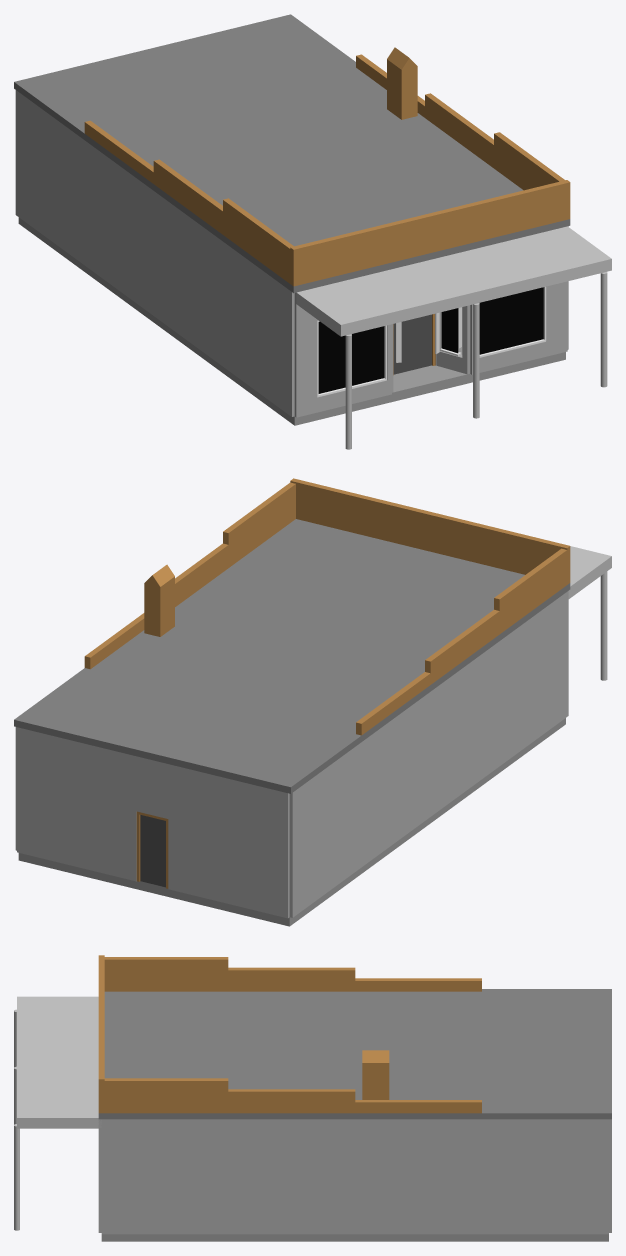
File: building_phase_1b_iter_009.glb
3 renders of one model, top to bottom at view 1: azimuth 30°, elevation 25°; view 2: azimuth 150°, elevation 25°; view 3: azimuth 270°, elevation 25°, orthographic. The views are drawn at different scales.
Parts seen in each view (by area): view 1: Roof, Wall_Left, Canopy_Roof, Parapet_Front, Wall_Front, Foundation, Front_Left_Window_Glass, Front_Right_Window_Glass, Parapet_Left_Level_1, Parapet_Right_Level_1, Parapet_Left_Level_2, Parapet_Right_Level_2 (+10 smaller); view 2: Roof, Wall_Left, Wall_Rear, Parapet_Front, Foundation, Parapet_Left_Level_1, Parapet_Right_Level_1, Parapet_Left_Level_2, Rear_Service_Door_Panel, Parapet_Right_Level_2, Chimney, Canopy_Roof (+3 smaller); view 3: Wall_Right, Roof, Canopy_Roof, Parapet_Right_Level_1, Parapet_Left_Level_1, Foundation, Parapet_Left_Level_2, Parapet_Right_Level_2, Parapet_Left_Level_3, Parapet_Right_Level_3, Parapet_Front, Chimney (+2 smaller).
Part boxes in pixels (bbox=[...]): Roof: bbox=[14, 14, 570, 293]; Wall_Left: bbox=[15, 90, 294, 416]; Canopy_Roof: bbox=[296, 226, 611, 336]; Parapet_Front: bbox=[290, 180, 570, 286]; Wall_Front: bbox=[294, 281, 567, 417]; Foundation: bbox=[18, 217, 565, 425]; Front_Left_Window_Glass: bbox=[318, 321, 384, 393]; Front_Right_Window_Glass: bbox=[479, 287, 543, 354]; Parapet_Left_Level_1: bbox=[223, 198, 293, 283]; Parapet_Right_Level_1: bbox=[494, 132, 564, 190]; Parapet_Left_Level_2: bbox=[153, 159, 222, 234]; Parapet_Right_Level_2: bbox=[425, 93, 493, 168]; Roof: bbox=[14, 519, 570, 793]; Wall_Left: bbox=[289, 591, 568, 917]; Wall_Rear: bbox=[17, 727, 289, 918]; Parapet_Front: bbox=[290, 478, 570, 584]; Foundation: bbox=[18, 718, 565, 926]; Parapet_Left_Level_1: bbox=[494, 548, 567, 633]; Parapet_Right_Level_1: bbox=[223, 482, 295, 567]; Parapet_Left_Level_2: bbox=[425, 609, 499, 684]; Rear_Service_Door_Panel: bbox=[140, 815, 165, 887]; Parapet_Right_Level_2: bbox=[175, 543, 228, 606]; Chimney: bbox=[144, 576, 174, 636]; Canopy_Roof: bbox=[568, 546, 611, 598]; Wall_Right: bbox=[101, 1119, 608, 1234]; Roof: bbox=[98, 989, 611, 1119]; Canopy_Roof: bbox=[17, 996, 101, 1128]; Parapet_Right_Level_1: bbox=[101, 1078, 228, 1113]; Parapet_Left_Level_1: bbox=[104, 957, 228, 991]; Foundation: bbox=[101, 1234, 608, 1241]; Parapet_Left_Level_2: bbox=[228, 967, 355, 991]; Parapet_Right_Level_2: bbox=[228, 1089, 355, 1113]; Parapet_Left_Level_3: bbox=[355, 978, 481, 991]; Parapet_Right_Level_3: bbox=[355, 1100, 481, 1113]; Parapet_Front: bbox=[98, 955, 104, 1113]; Chimney: bbox=[362, 1063, 389, 1099].
Size of the model in its own units: 8.68 by 6.03 by 17.68.
